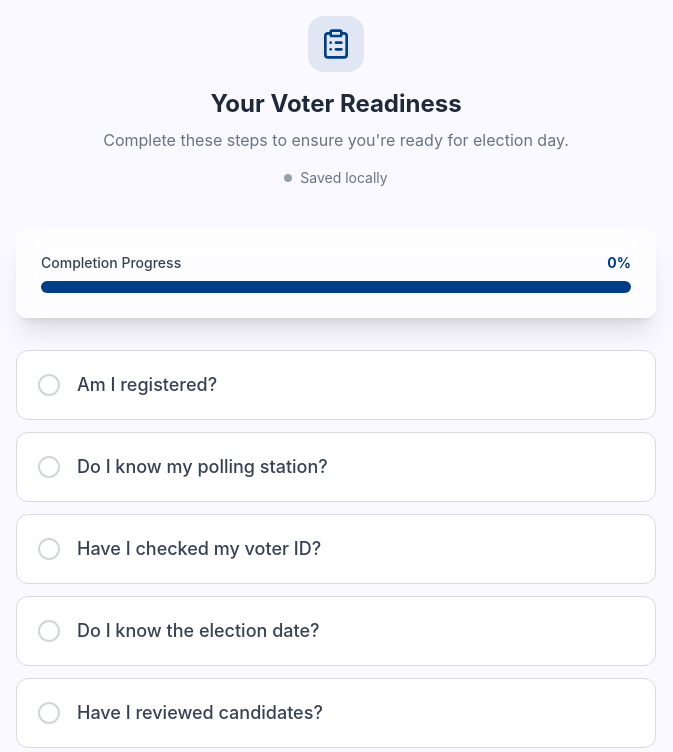
Test: VoterChecklist Component › toggles a checklist item on click
What coordinates should you click on to do the following:
click the checkbox "Am I registered?"
I would click on:
 (147, 384)
Its box is [16,350,656,420].
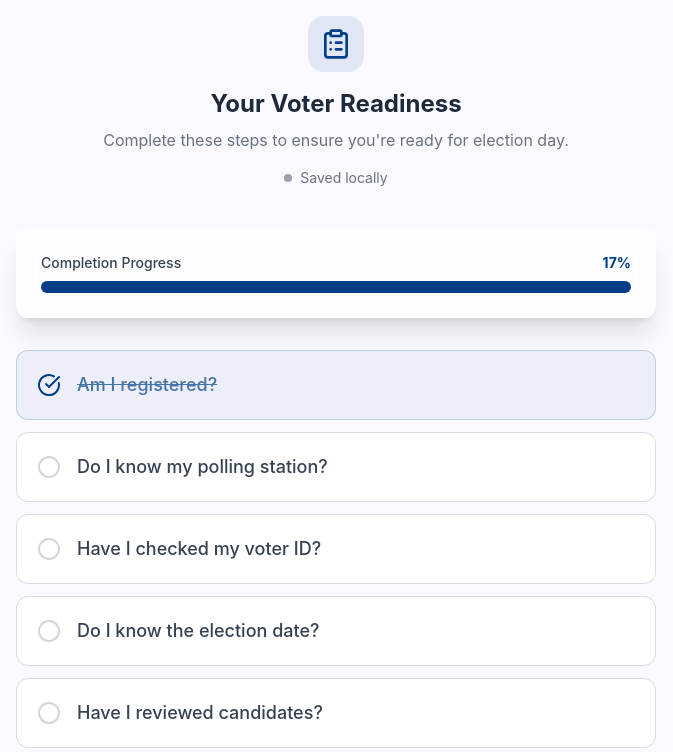
Result: the text "17%" is shown at [603,253,631,273]
